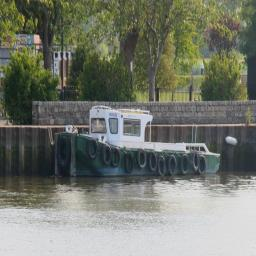tugboat: (53, 103, 223, 185)
